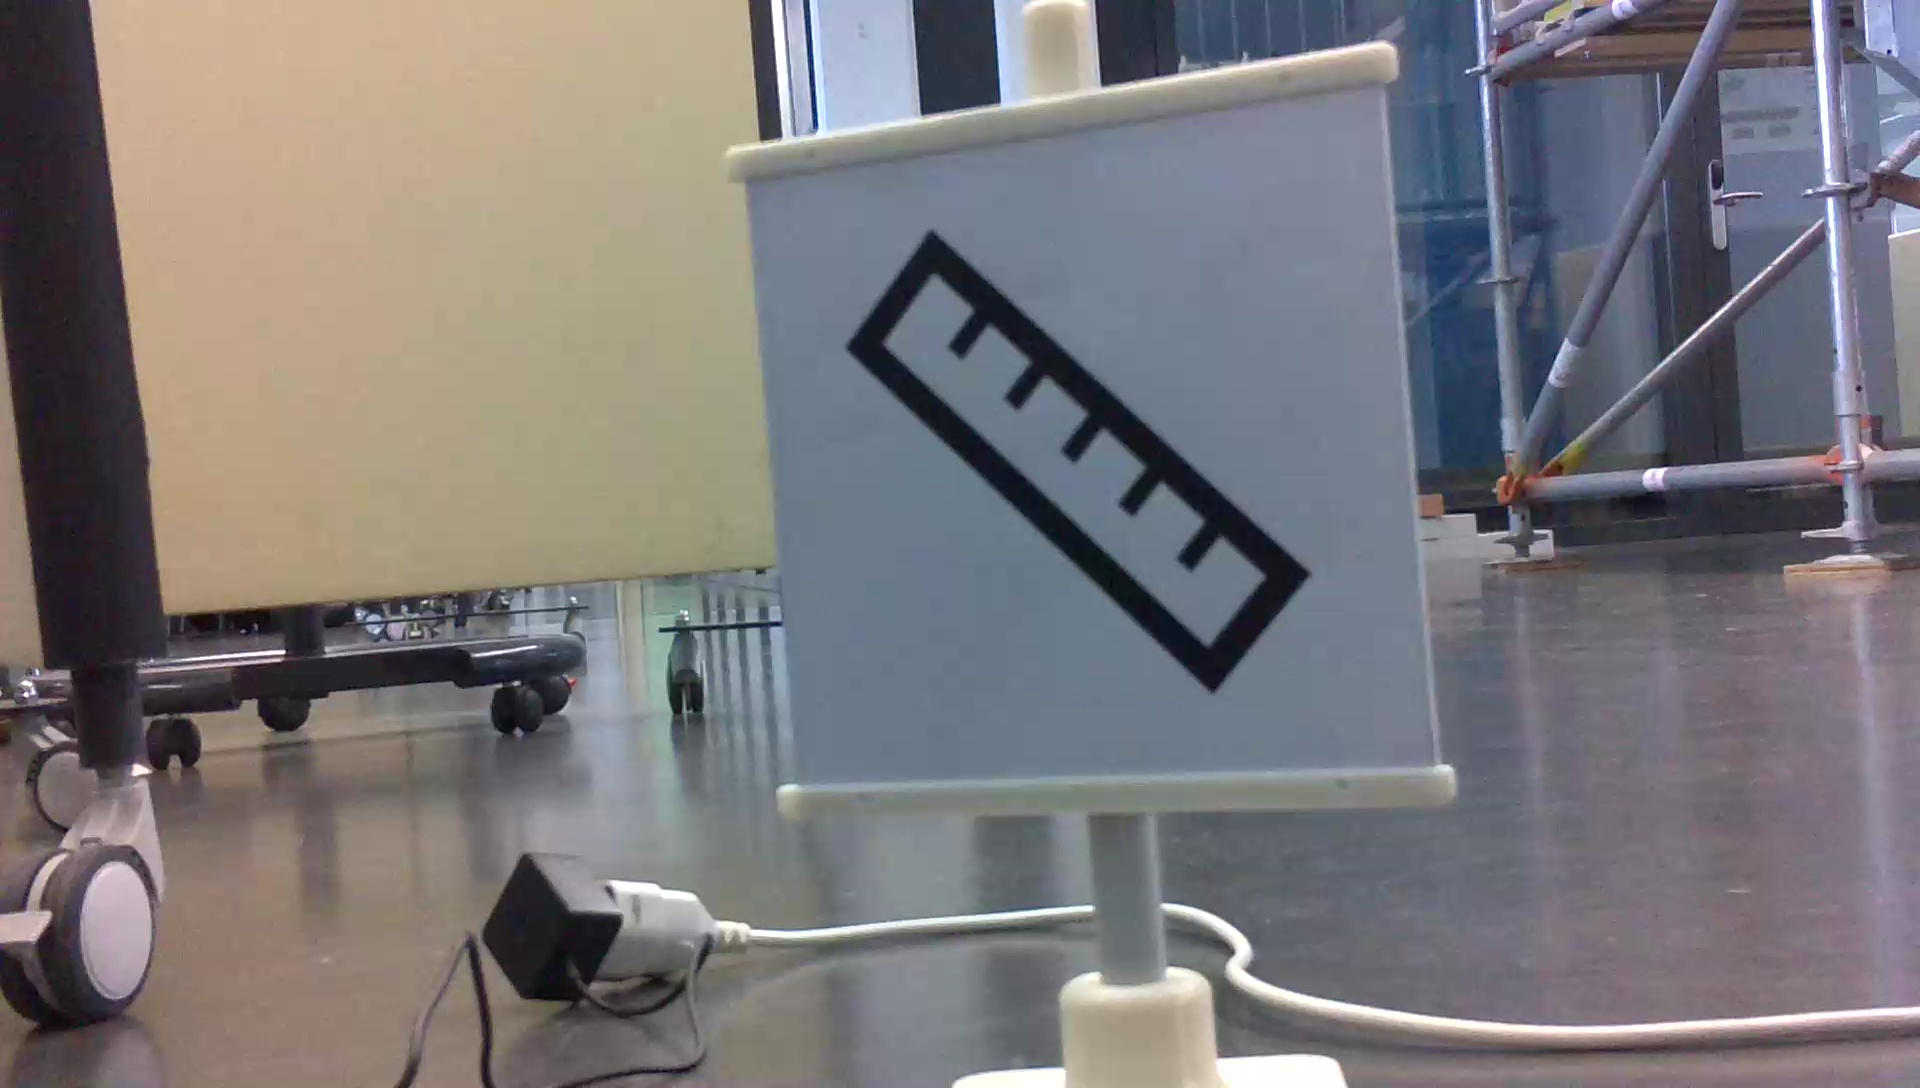ruler: (841, 220, 1309, 691)
